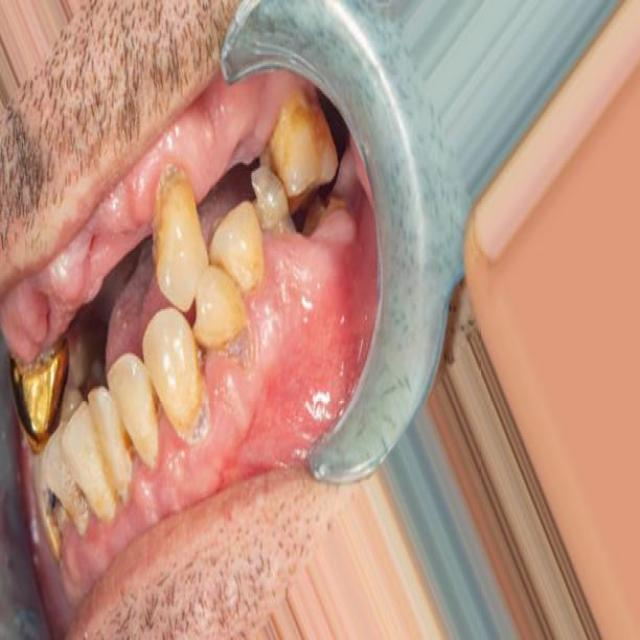caries: (222, 315, 263, 377), (39, 478, 71, 538)
